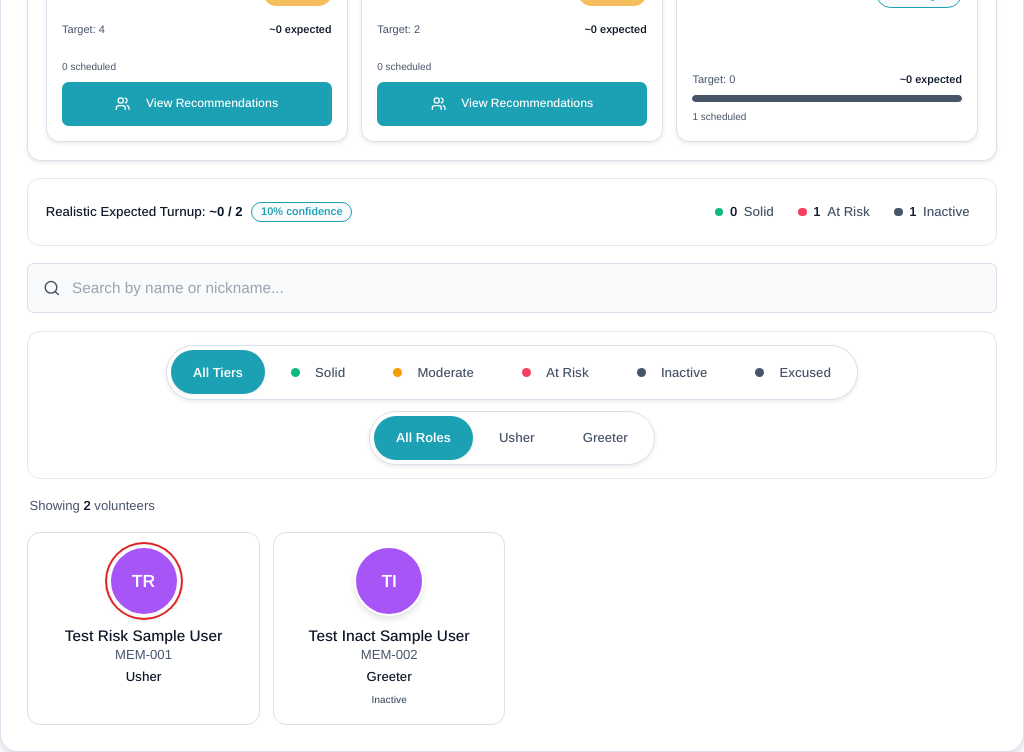
Test: SelectedDateDetails › separates At Risk and Inactive when filtering by tier tab
(page scrolled)
Expected: the text "Test Risk Sample User" is shown, [65,626,222,644]
Expected: the text "Test Inact Sample User" is shown, [309,626,470,644]
// Click Inactive tab
Click the tab "Inactive" at (672,372), box [615,350,729,394]
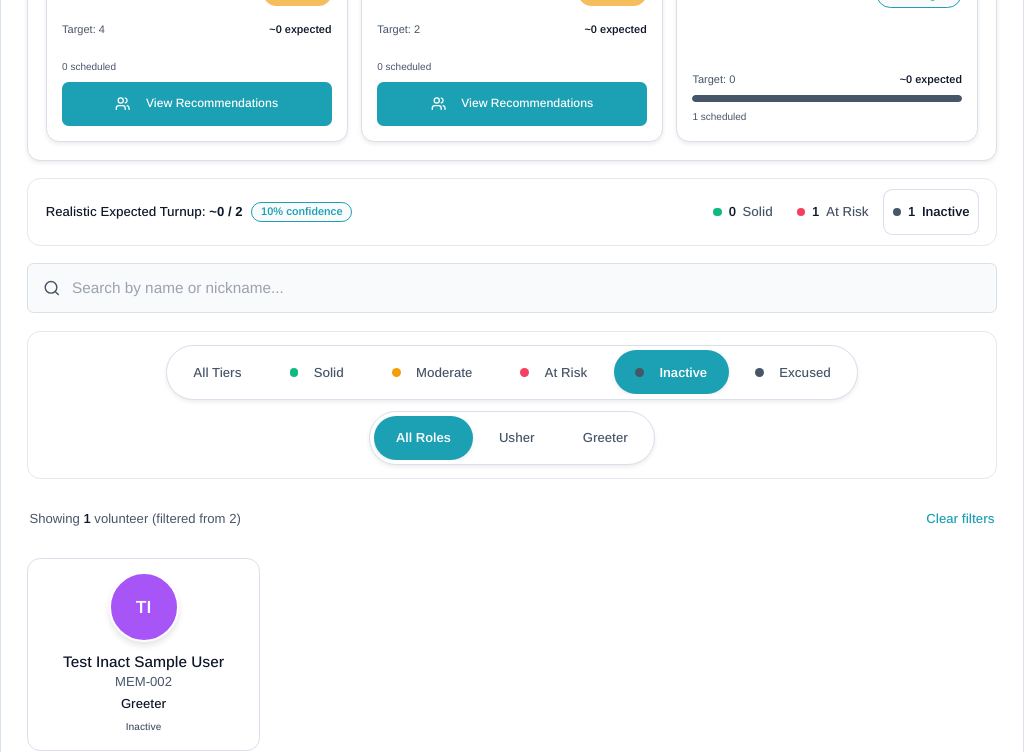
Expected: the text "Test Inact Sample User" is shown, [63,653,224,670]
Now the button "Test Risk Sample User" is gone
// Click At Risk tab
Click the tab "At Risk" at (554,372), box [499,350,609,394]
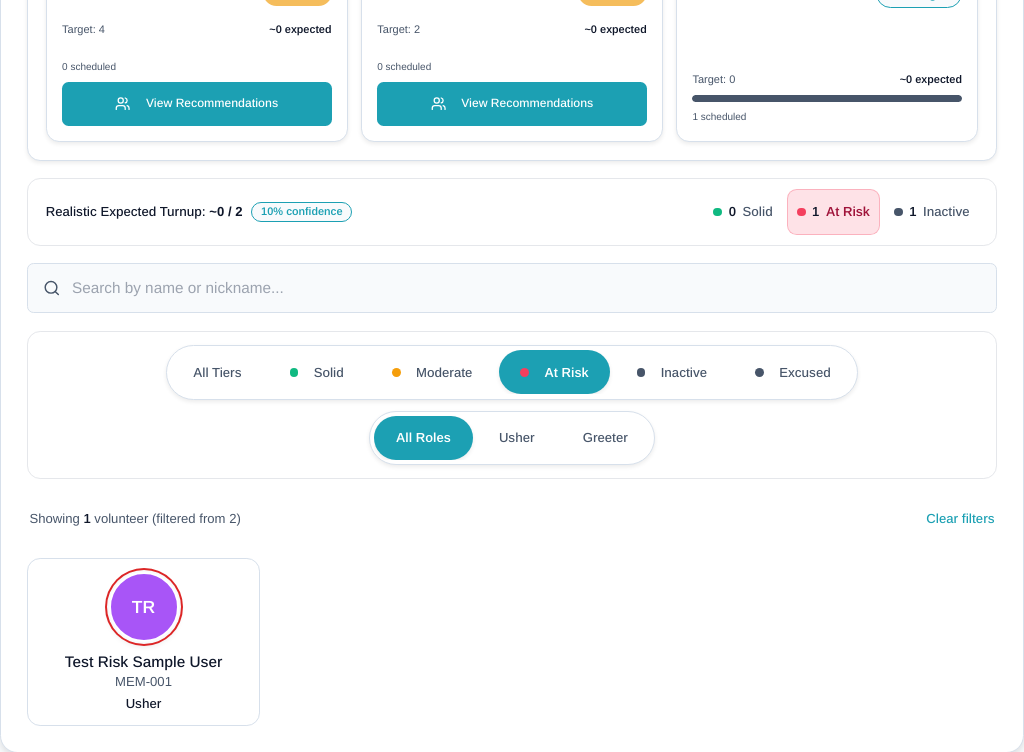
Now the text "Test Risk Sample User" is shown, box [65,653,222,670]
Now the button "Test Inact Sample User" is gone
